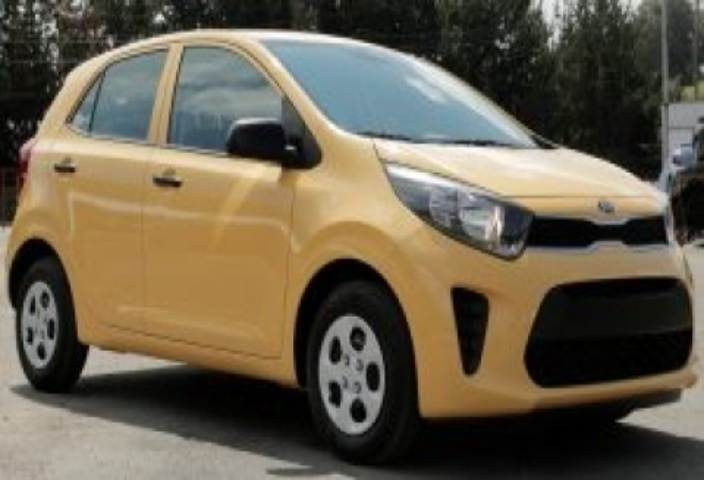taxi: (33, 29, 704, 447)
